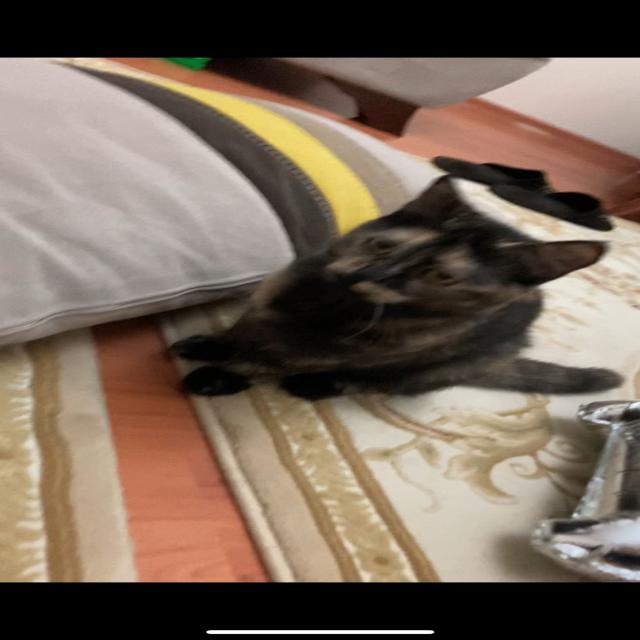authorized: (163, 172, 624, 402)
